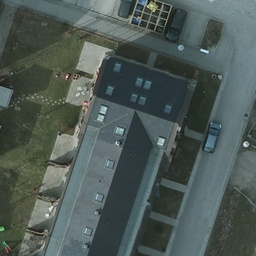car: (164, 9, 187, 44), (203, 121, 220, 154), (118, 0, 136, 18)
